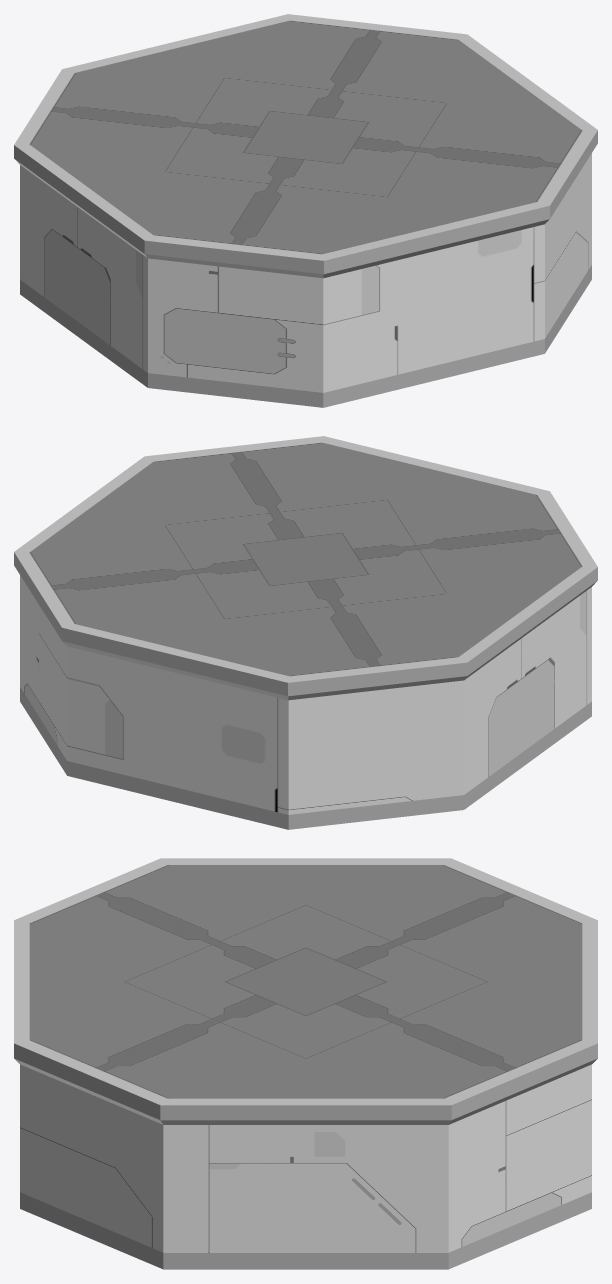
The model's file is SM_Platform_4x4_2.fbx.
3 renders of one model, top to bottom at view 1: azimuth 30°, elevation 25°; view 2: azimuth 150°, elevation 25°; view 3: azimuth 270°, elevation 25°, orthographic. The views are drawn at different scales.
Visible parts, largest first — view 1: SM_Platform_4x4_2; view 2: SM_Platform_4x4_2; view 3: SM_Platform_4x4_2.
Boxes of the visible parts, x1=… form: SM_Platform_4x4_2: x1=14, y1=14, x2=597, y2=407; SM_Platform_4x4_2: x1=14, y1=436, x2=597, y2=829; SM_Platform_4x4_2: x1=14, y1=858, x2=597, y2=1269.
Size of the model in its own units: 412 by 130 by 412.
